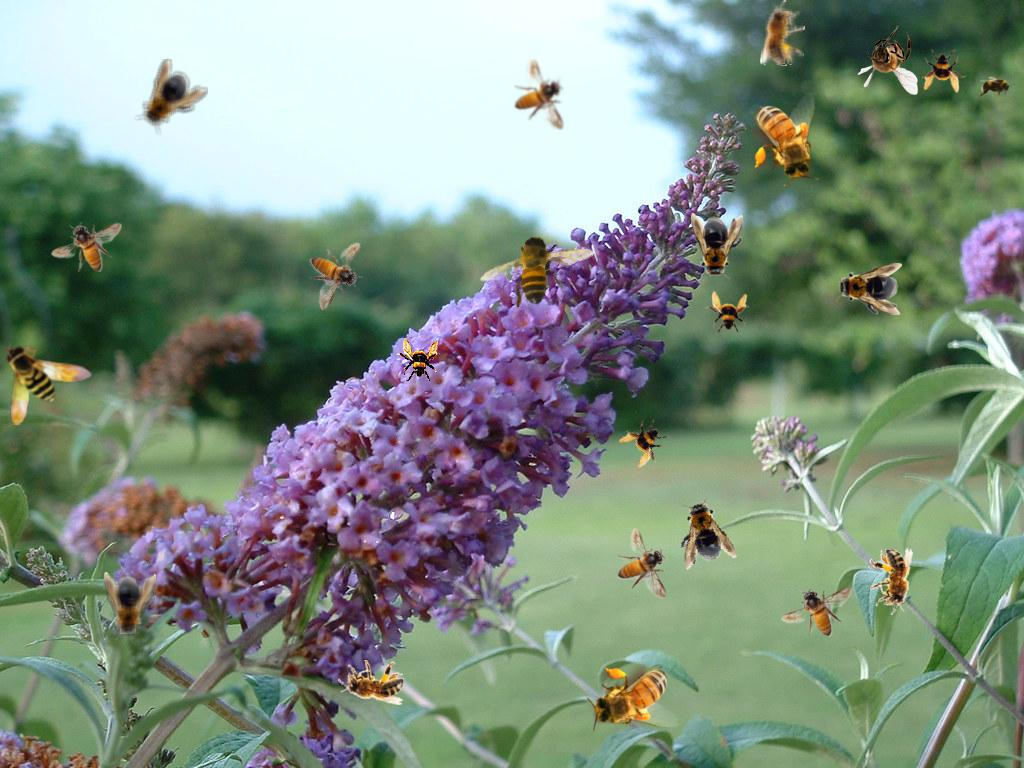Bee: (467, 197, 614, 341), (292, 228, 380, 313), (126, 57, 210, 143), (4, 343, 92, 425), (751, 93, 819, 186), (587, 664, 680, 732), (668, 492, 738, 572), (857, 25, 918, 95), (614, 411, 678, 475), (617, 528, 667, 599), (51, 222, 122, 272), (781, 587, 852, 637), (514, 59, 564, 130), (834, 263, 902, 315), (104, 572, 156, 640), (691, 213, 743, 281), (867, 547, 917, 616), (338, 660, 404, 705), (760, 0, 805, 66), (705, 291, 749, 335), (396, 338, 440, 382), (922, 49, 966, 93), (976, 76, 1016, 98)
